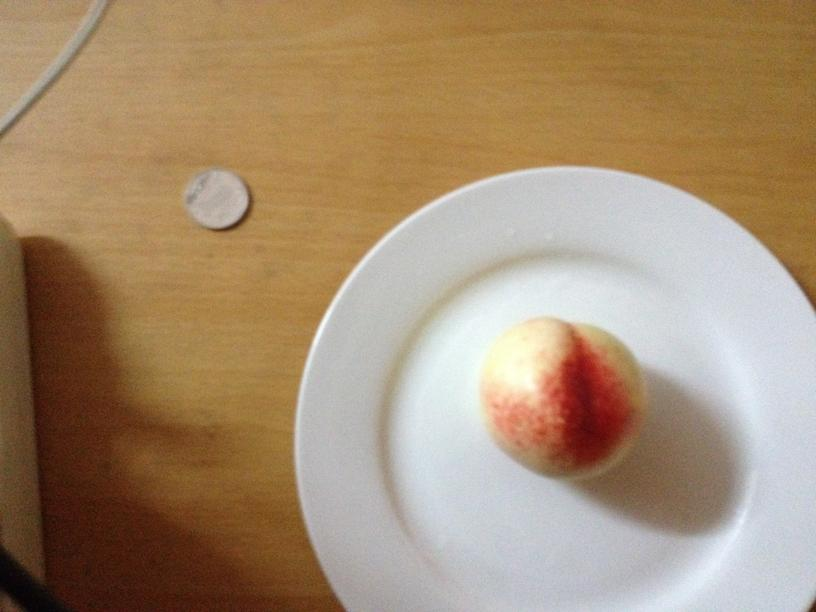coin: (183, 172, 251, 230)
peach: (483, 312, 642, 478)
